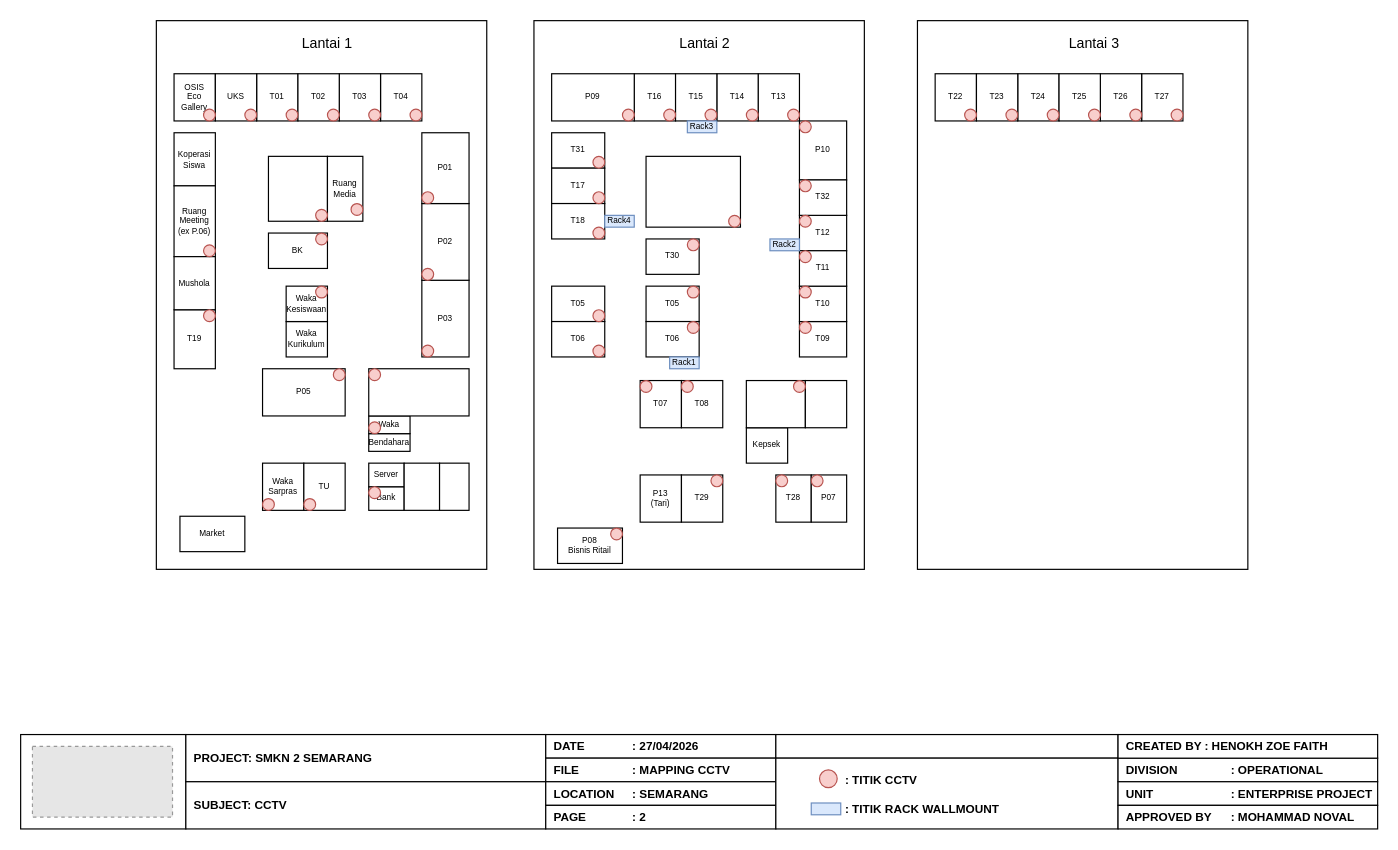
Some shapes in this 1398 by 850 pixel diagram are drawn without their labels. Grey dashed boxes stand in for pictures. The centre of each missing label's shape, as x and y in pixels:
"AULA" goes at pixel 692 191.
"LEGEND:" goes at pixel 946 745.
"P04" goes at pixel 418 392.
"P11" goes at pixel 775 403.
"Perpustakaan" goes at pixel 297 188.
